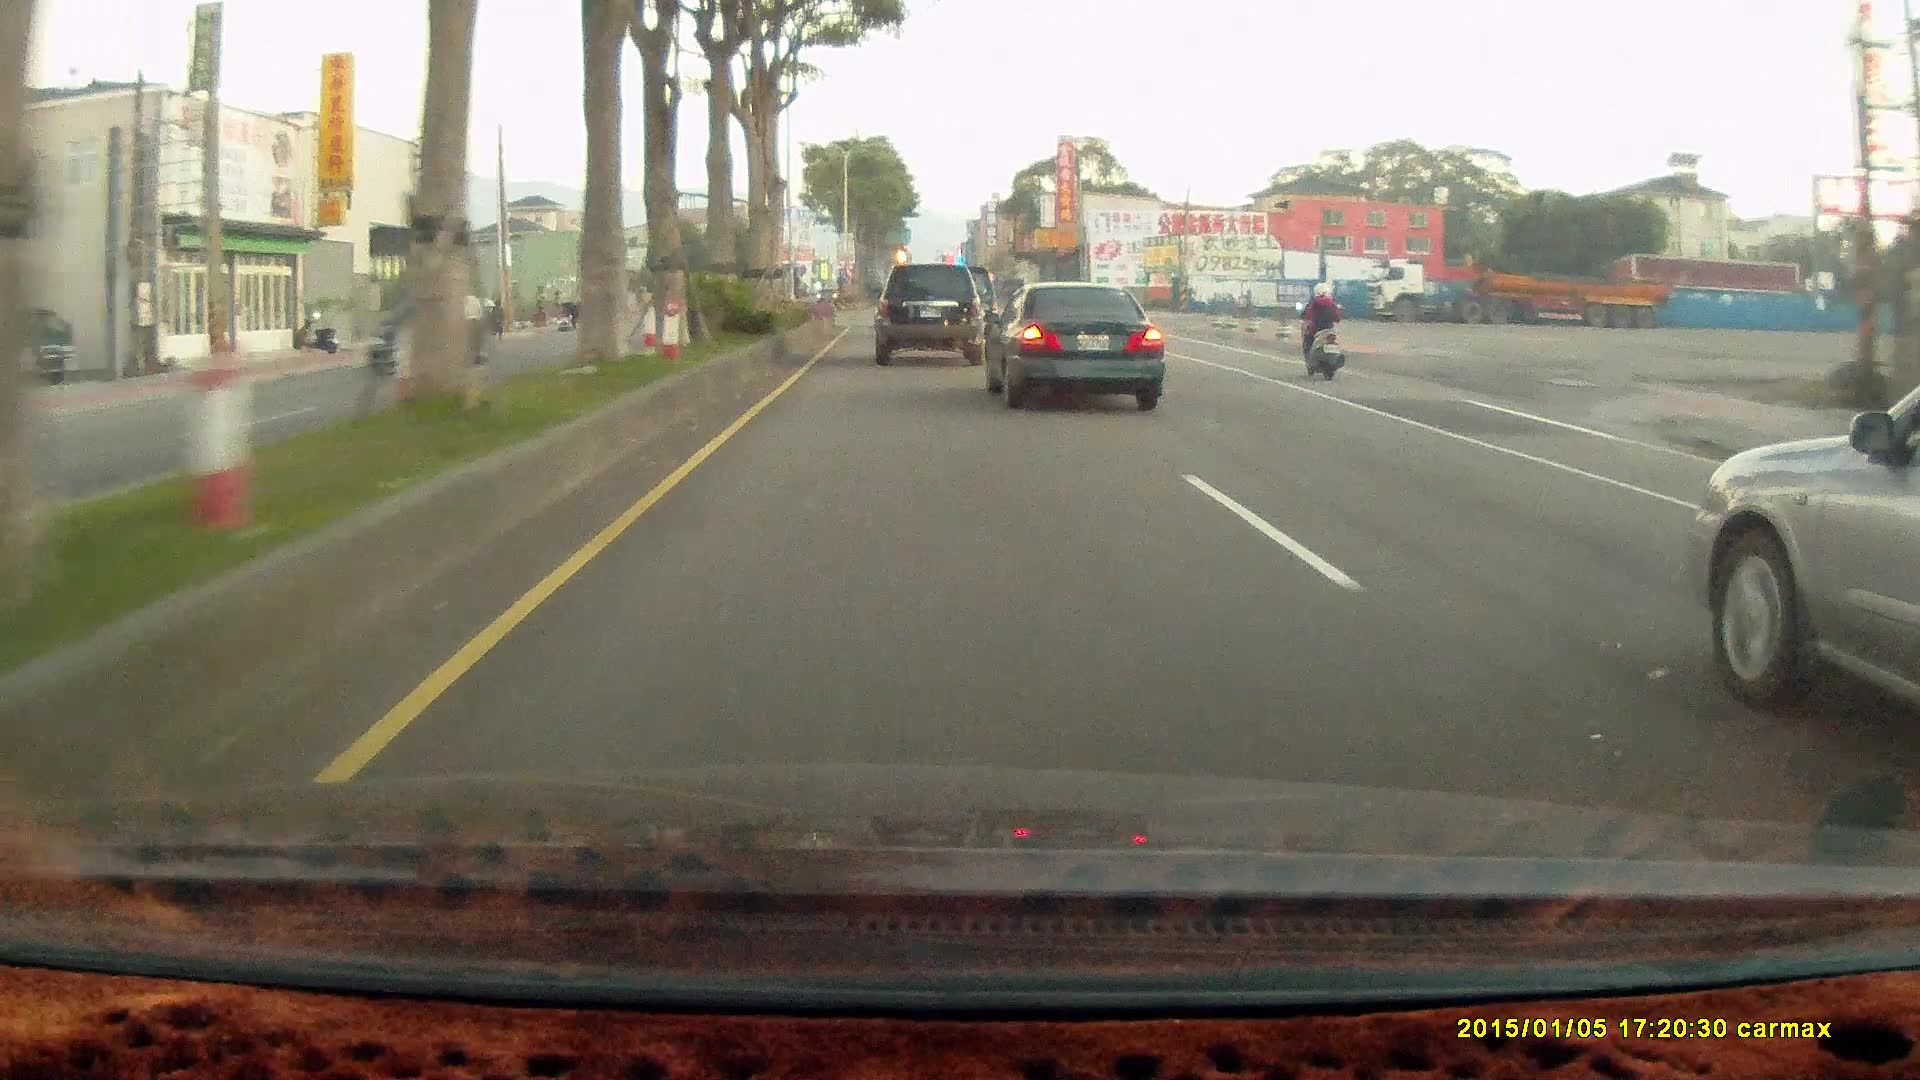pedestrian: (555, 298, 580, 330)
rider: (1287, 275, 1355, 389), (1293, 282, 1344, 381)
vehicle: (1687, 378, 1920, 727), (980, 280, 1163, 409), (988, 282, 1167, 411), (1364, 257, 1668, 329), (874, 262, 989, 366), (872, 262, 984, 365), (366, 293, 493, 375), (1, 308, 84, 387), (1, 308, 78, 387)
